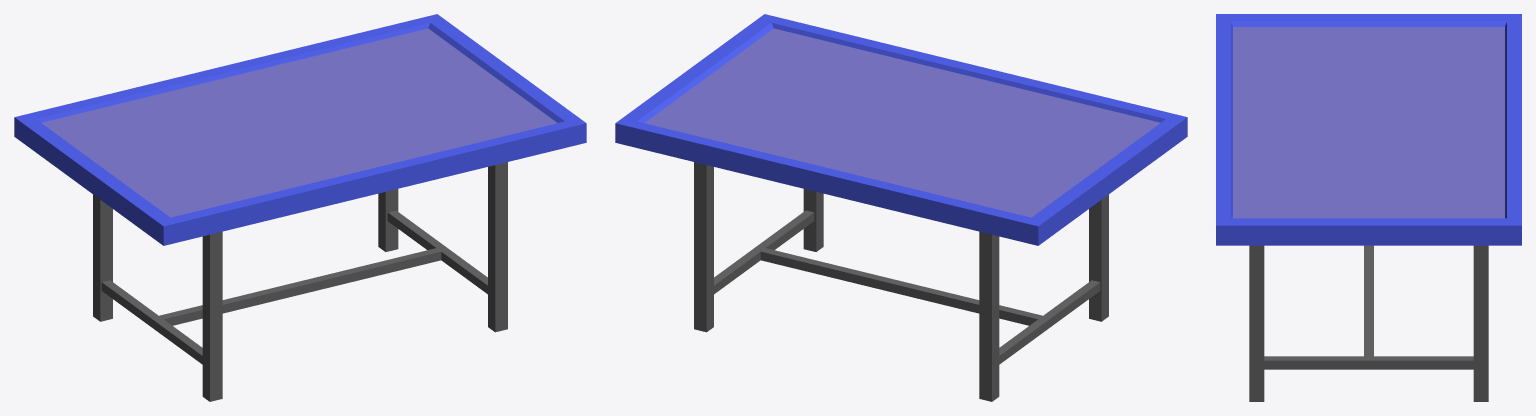
Rendered from DeskBank_04.fbx.
3 views of the same model, side by side, from view 1: azimuth 30°, elevation 25°; view 2: azimuth 150°, elevation 25°; view 3: azimuth 270°, elevation 25° (orthographic). The views are drawn at different scales.
Parts seen in each view (by area): view 1: SM_Prop_Table_01; view 2: SM_Prop_Table_01; view 3: SM_Prop_Table_01.
Boxes of the visible parts, x1,y1,x2,y2 form: SM_Prop_Table_01: (14,14,586,401); SM_Prop_Table_01: (615,14,1187,401); SM_Prop_Table_01: (1216,14,1521,401).
Size of the model in its own units: 2.12 by 0.9728 by 1.3.
